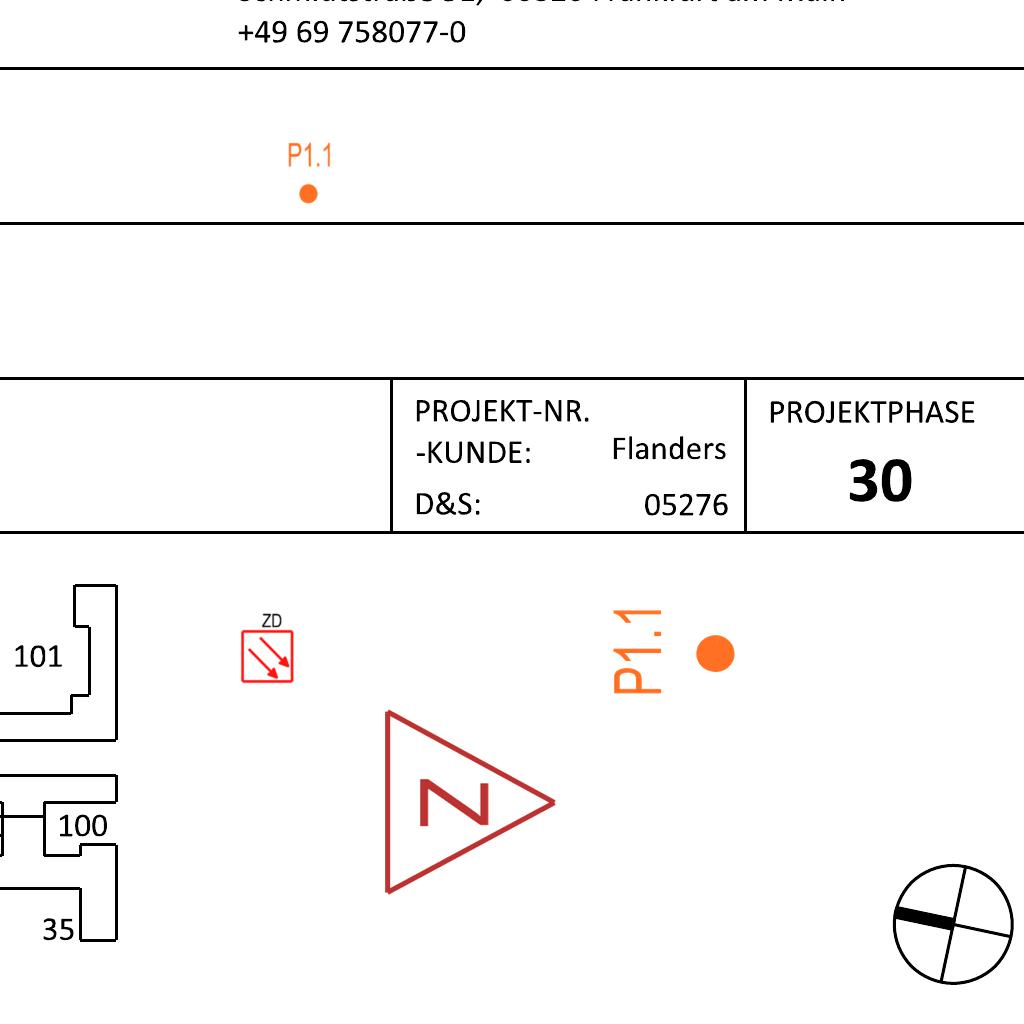Downlight_LED_Einbauleuchten_Flur: (610, 604, 738, 697), (287, 141, 333, 205)
ZD_Melder_in_Zwischendecke_mit_Revisionsoeffnung_mind_40_x_40_cm: (238, 610, 295, 684)
Zimmersignalleuchte: (370, 702, 570, 898)
